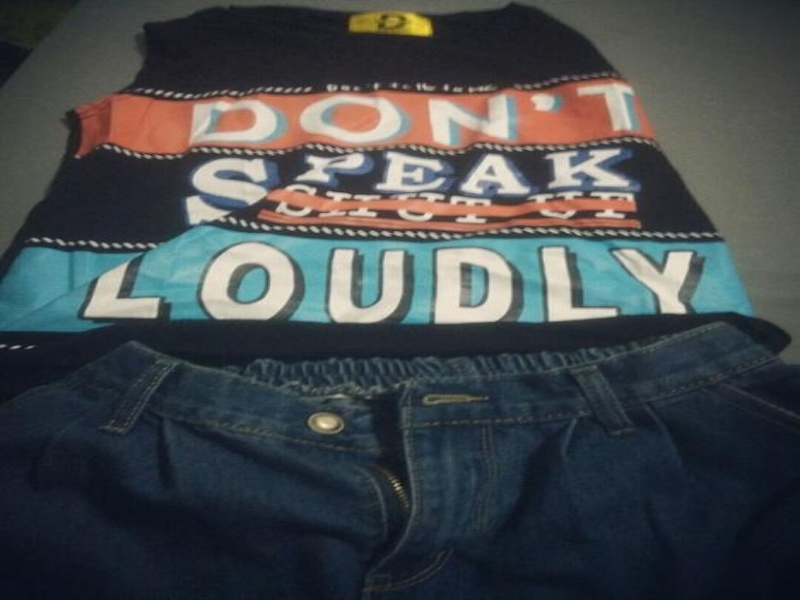shorts: (0, 316, 797, 599)
vest: (2, 4, 793, 358)
